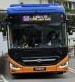bus: (21, 14, 30, 21)
